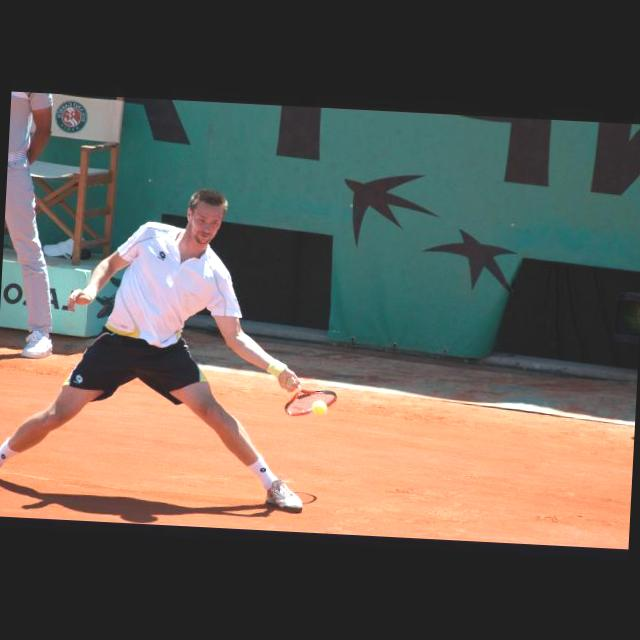Tennis Ball: (312, 398, 329, 416)
